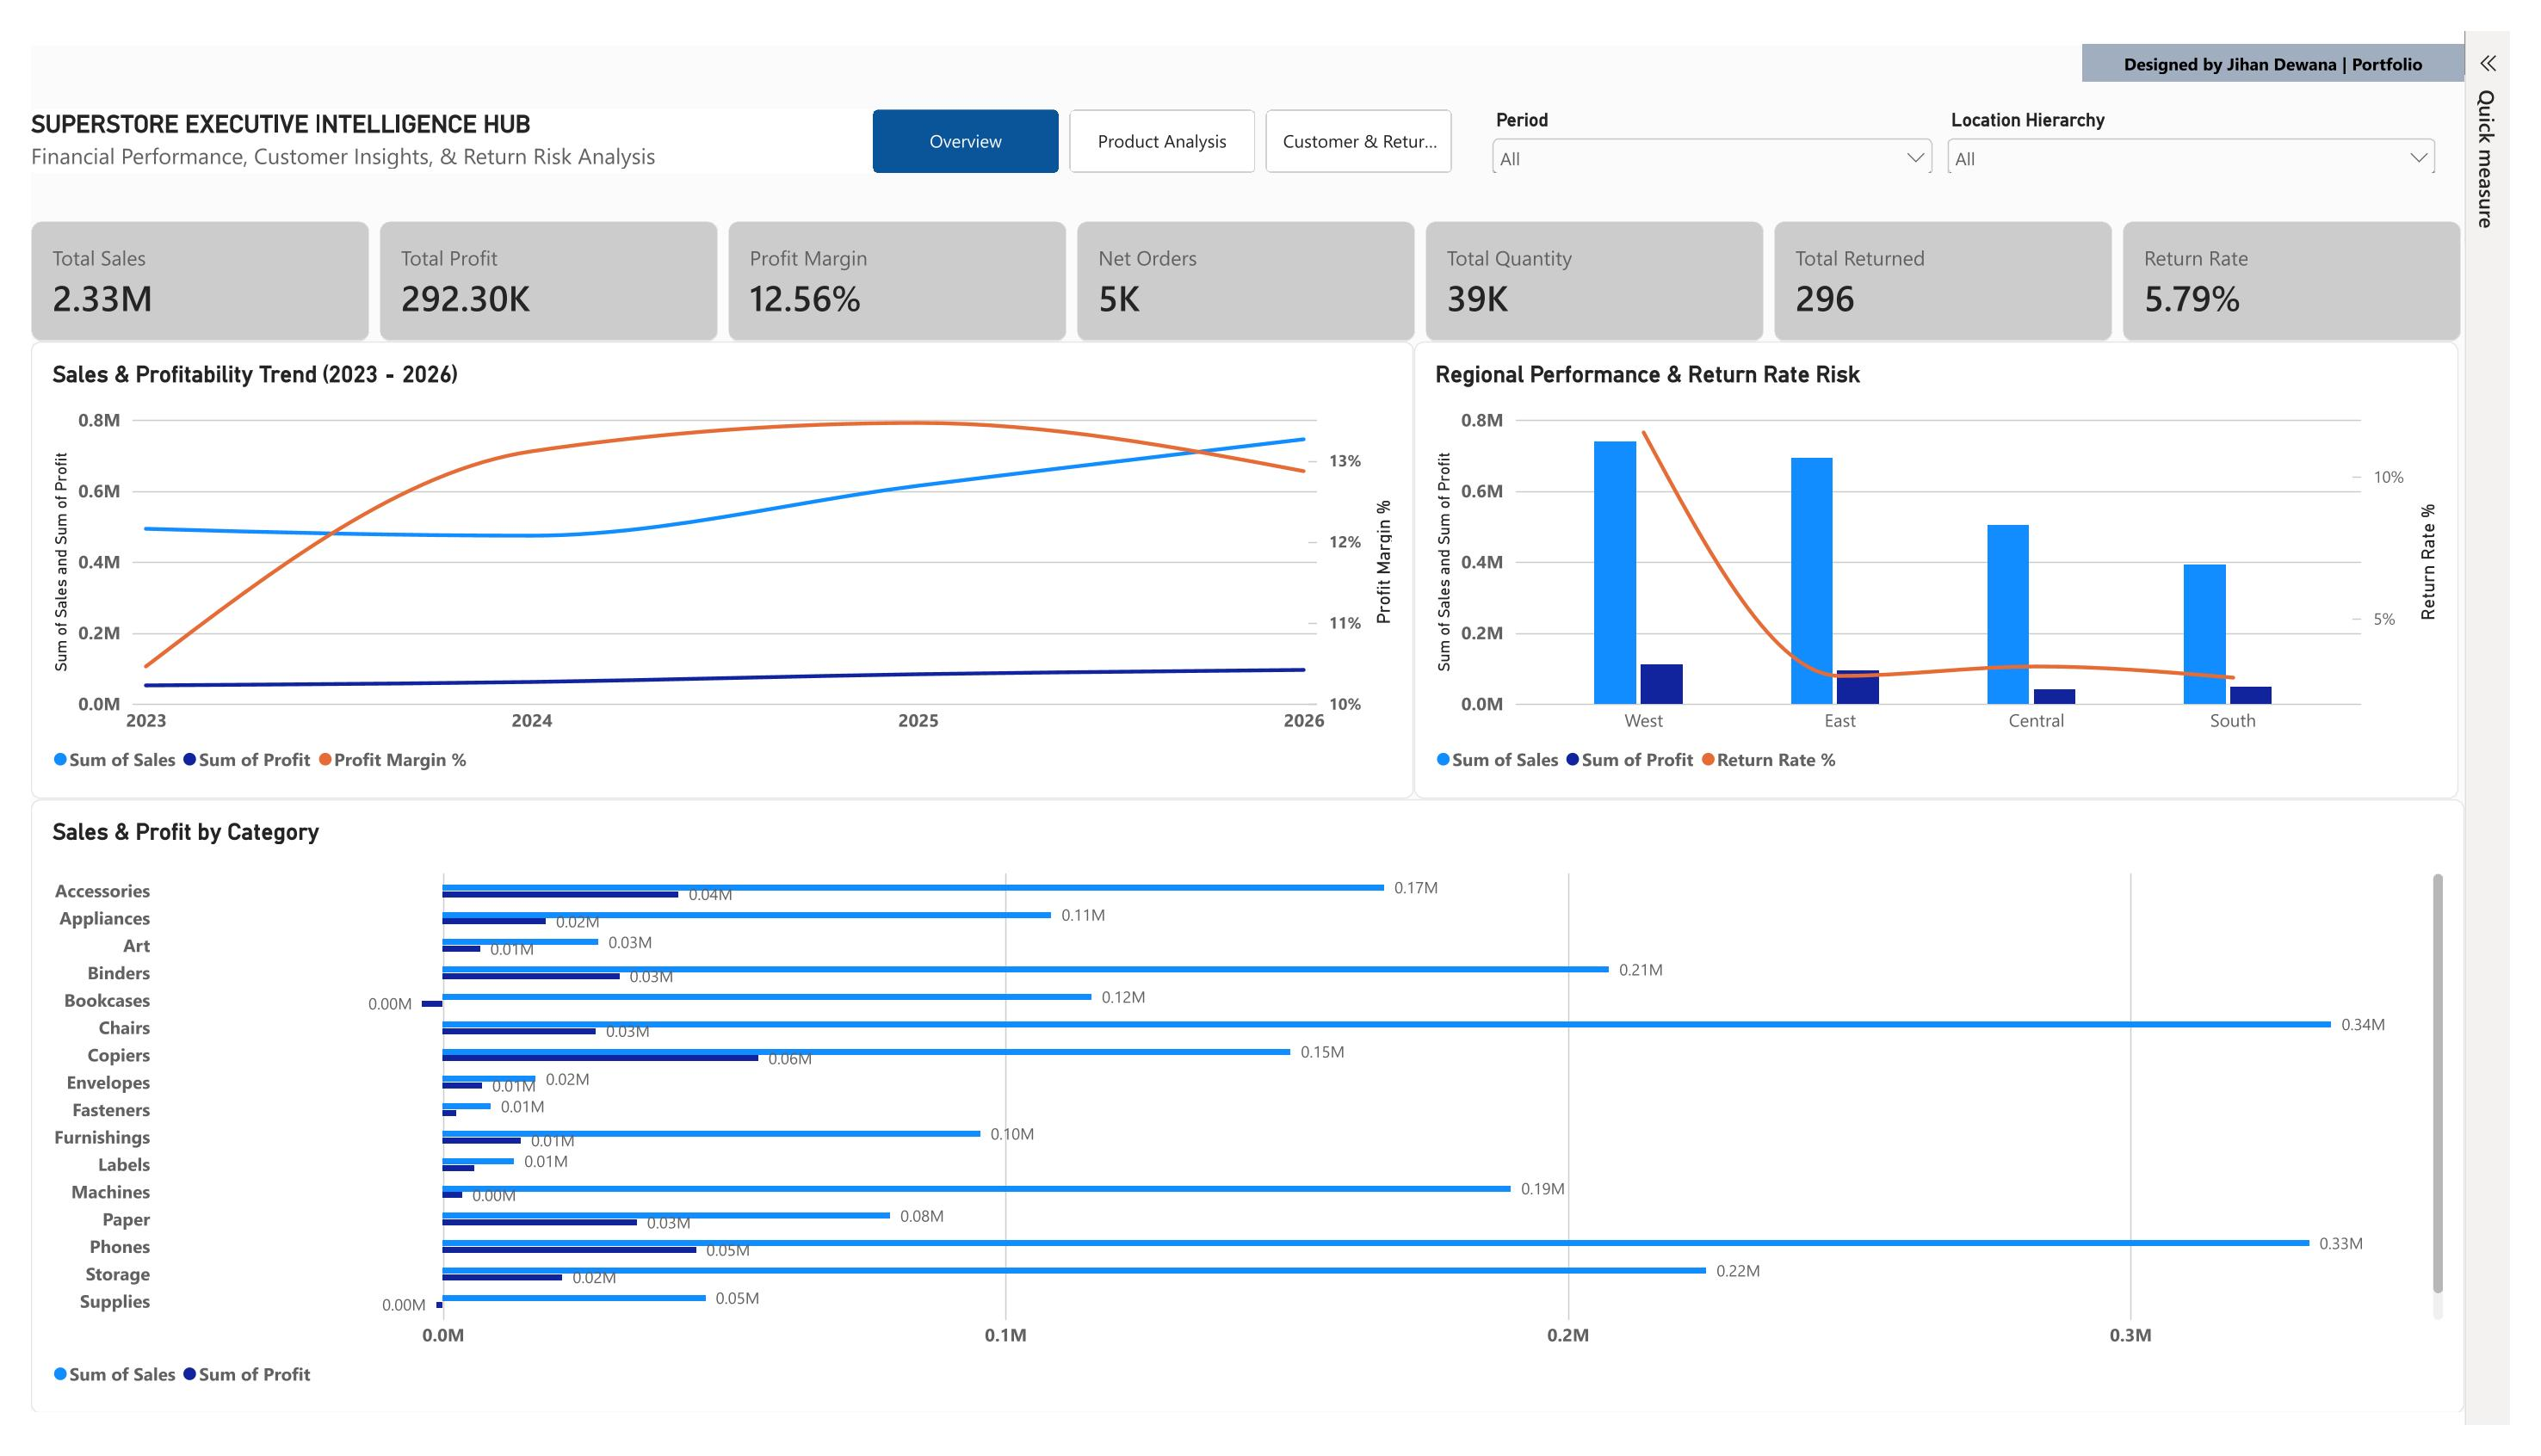

This screenshot's page, from the dashboard's own definition file:
{"tool":"powerbi","page":{"name":"Overview","canvas":[1920,1080],"ordinal":0},"visuals":[{"type":"cardVisual","fields":{"Data":["Sum(Orders.Sales)","Sum(Orders.Profit)","Orders.Profit Margin %","Orders.Net Orders","Sum(Orders.Quantity)","Returns.Total Returned Orders","Returns.Return Rate %"]},"box":[0,139.5,1919.3,95.4],"z":0},{"type":"lineChart","title":"Sales & Profitability Trend (2023 - 2026)","fields":{"Category":["Orders.Order Date.Variation.Date Hierarchy.Year"],"Y":["Sum(Orders.Sales)","Sum(Orders.Profit)"],"Y2":["Orders.Profit Margin %"]},"box":[0,235.1,1091.1,361.2],"z":1000},{"type":"clusteredBarChart","title":"Sales & Profit by Category","fields":{"Category":["Orders.Category","Orders.Sub-Category"],"Y":["Sum(Orders.Sales)","Sum(Orders.Profit)"]},"box":[0,595.6,1920,485.2],"z":2000},{"type":"lineClusteredColumnComboChart","title":"Regional Performance & Return Rate Risk","fields":{"Category":["Orders.Region"],"Y":["Sum(Orders.Sales)","Sum(Orders.Profit)"],"Y2":["Returns.Return Rate %"]},"box":[1091.1,235.1,823.9,361.2],"z":3000},{"type":"slicer","fields":{"Values":["Orders.Region","Orders.Country/Region","Orders.State/Province","Orders.City"]},"box":[1506.8,51.7,395.2,50],"z":4000},{"type":"slicer","fields":{"Values":["Orders.Order Date.Variation.Date Hierarchy.Year"]},"box":[1148,51.7,356.6,50],"z":5000},{"type":"pageNavigator","box":[664.3,52.1,458.1,50],"z":6000},{"type":"textbox","title":"SUPERSTORE EXECUTIVE INTELLIGENCE HUB","box":[0,52.1,664.3,50],"z":7000},{"type":"shape","box":[1618.1,0,301.9,29.7],"z":8000}]}

Visuals, with their boxes on the page's 1920x1080 design canvas (x1, y1, x2, y2). These are canvas units, not pixel positions in the 2541x1456 screenshot, which may show the page scaled, cropped or inside an application window:
cardVisual - Sum(Orders.Sales) x Sum(Orders.Profit): left=0, top=140, right=1919, bottom=235
"Sales & Profitability Trend (2023 - 2026)" lineChart: left=0, top=235, right=1091, bottom=596
"Sales & Profit by Category" clusteredBarChart: left=0, top=596, right=1920, bottom=1081
"Regional Performance & Return Rate Risk" lineClusteredColumnComboChart: left=1091, top=235, right=1915, bottom=596
slicer - Orders.Region x Orders.Country/Region: left=1507, top=52, right=1902, bottom=102
slicer - Orders.Order Date.Variation.Date Hierarchy.Year: left=1148, top=52, right=1505, bottom=102
pageNavigator: left=664, top=52, right=1122, bottom=102
"SUPERSTORE EXECUTIVE INTELLIGENCE HUB" textbox: left=0, top=52, right=664, bottom=102
shape: left=1618, top=0, right=1920, bottom=30
